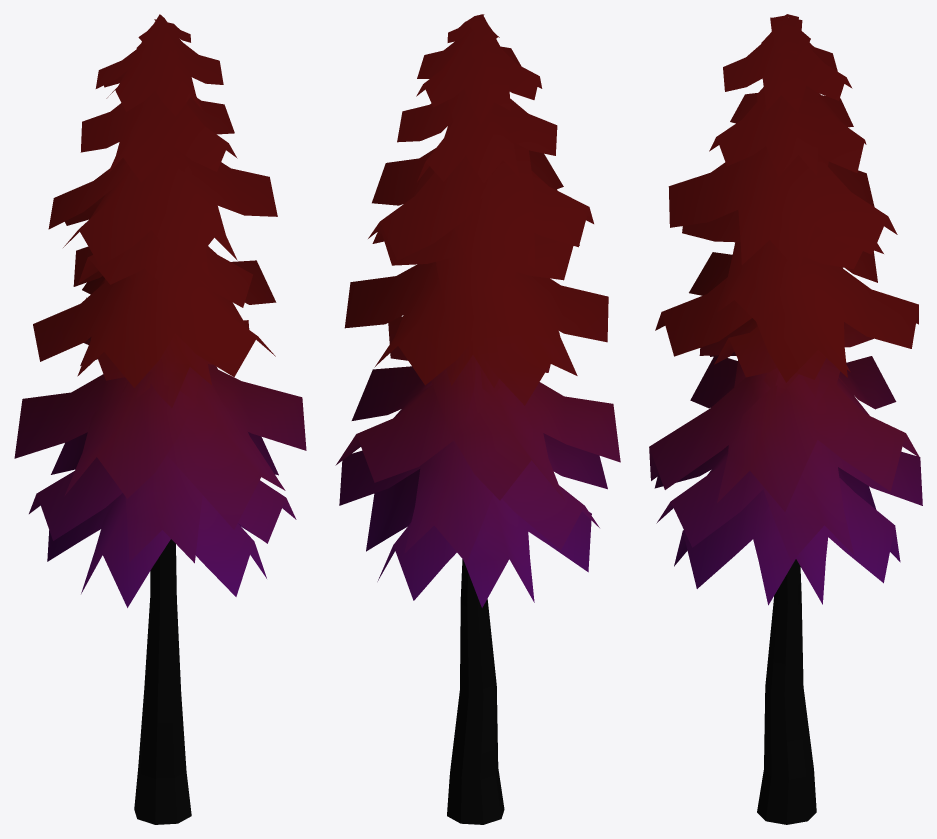
The model's file is SM_Tree_Pine_Large_01_LOD_01.fbx.
3 views of the same model, side by side, from view 1: azimuth 30°, elevation 25°; view 2: azimuth 150°, elevation 25°; view 3: azimuth 270°, elevation 25° (orthographic).
Parts seen in each view (by area): view 1: SM_Tree_Pine_Large_01_LOD_01; view 2: SM_Tree_Pine_Large_01_LOD_01; view 3: SM_Tree_Pine_Large_01_LOD_01.
Boxes of the visible parts, x1,y1,x2,y2 form: SM_Tree_Pine_Large_01_LOD_01: (14, 14, 306, 824); SM_Tree_Pine_Large_01_LOD_01: (335, 14, 620, 824); SM_Tree_Pine_Large_01_LOD_01: (649, 14, 922, 824).
Size of the model in its own units: 244 by 753 by 234.
